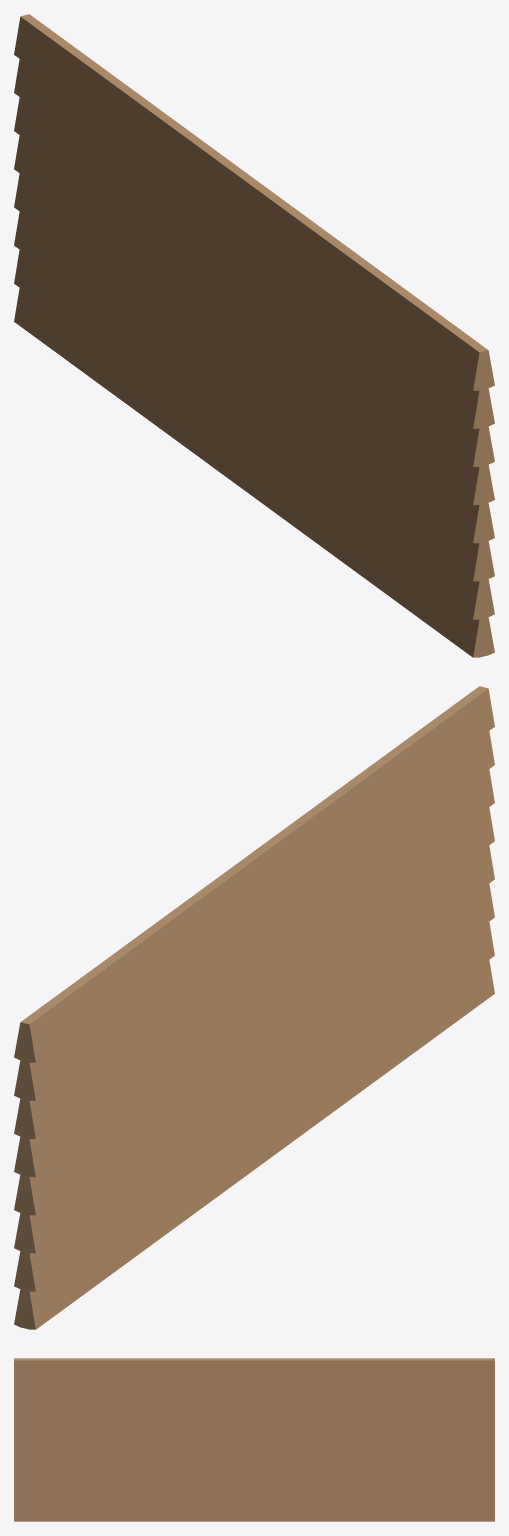
The model's file is Large wall-col.glb.
The picture shows the model from 3 angles, top to bottom: view 1: azimuth 30°, elevation 25°; view 2: azimuth 150°, elevation 25°; view 3: azimuth 270°, elevation 25°; orthographic projection. The views are drawn at different scales.
Parts seen in each view (by area): view 1: Large wall-col.001; view 2: Large wall-col.001; view 3: Large wall-col.001.
Part boxes in pixels (bbox=[...]): Large wall-col.001: bbox=[14, 14, 494, 657]; Large wall-col.001: bbox=[14, 686, 494, 1329]; Large wall-col.001: bbox=[14, 1358, 494, 1521].
Bounding box in the file's own units: 0.165 × 2.2 × 6.
